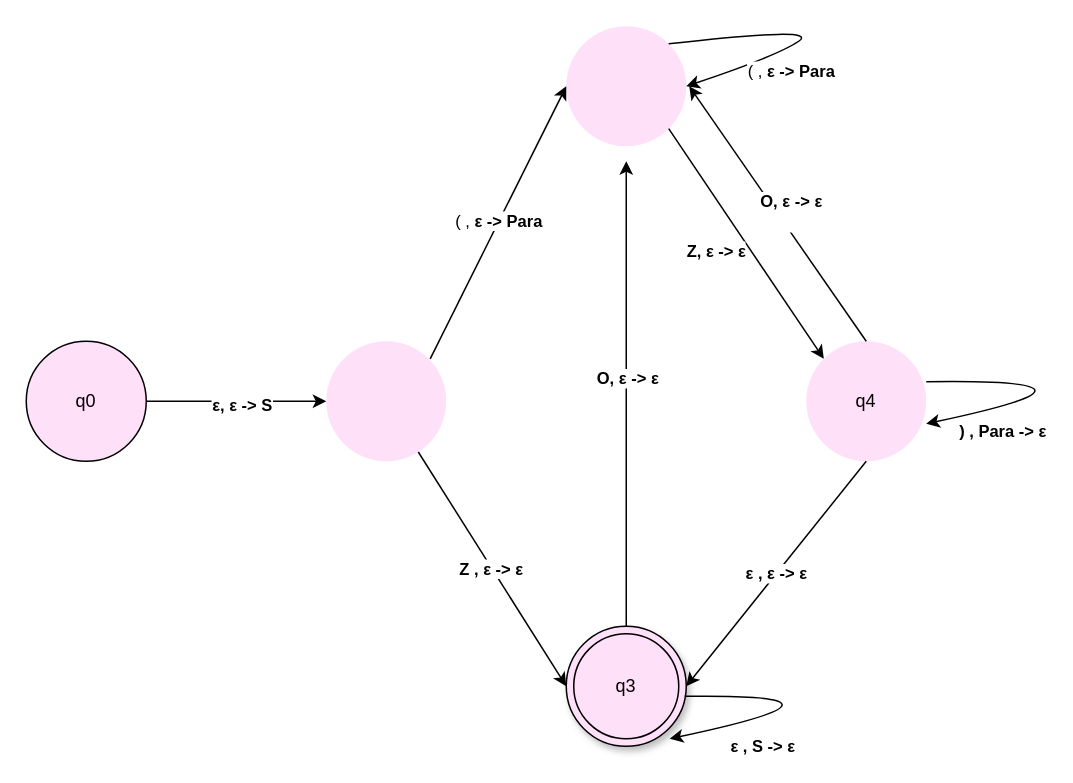
This 1073x783 diagram has some shape labels left out. The centre of each missing label's shape, as x and y in pixels:
"q1" goes at point 386,400.
"q2" goes at point 626,86.
